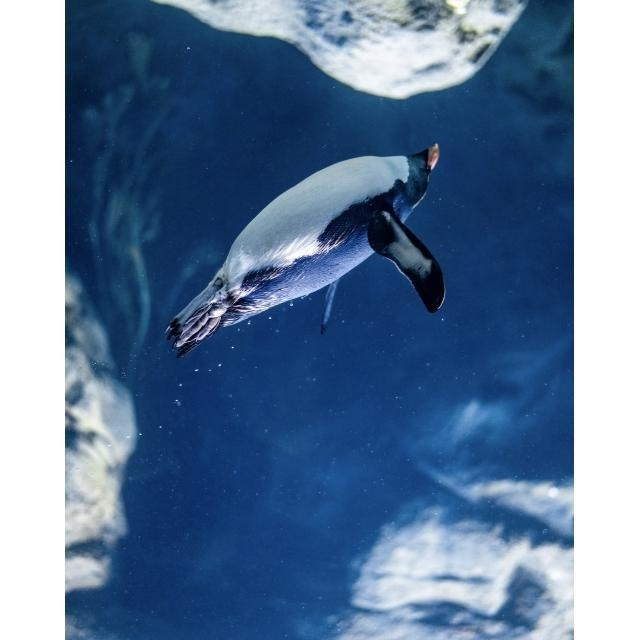penguin: (167, 141, 447, 360)
